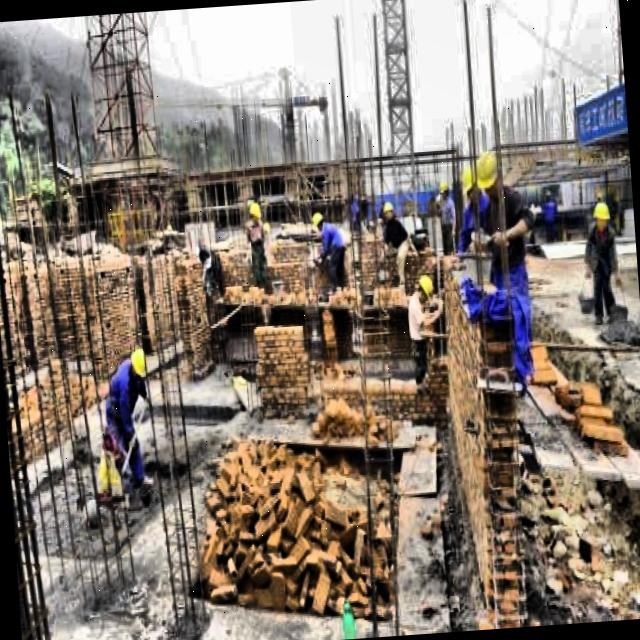helmet: (474, 147, 504, 206), (460, 164, 488, 206), (126, 344, 152, 386), (590, 198, 616, 234), (412, 274, 436, 305), (310, 206, 326, 235), (246, 197, 262, 226)
